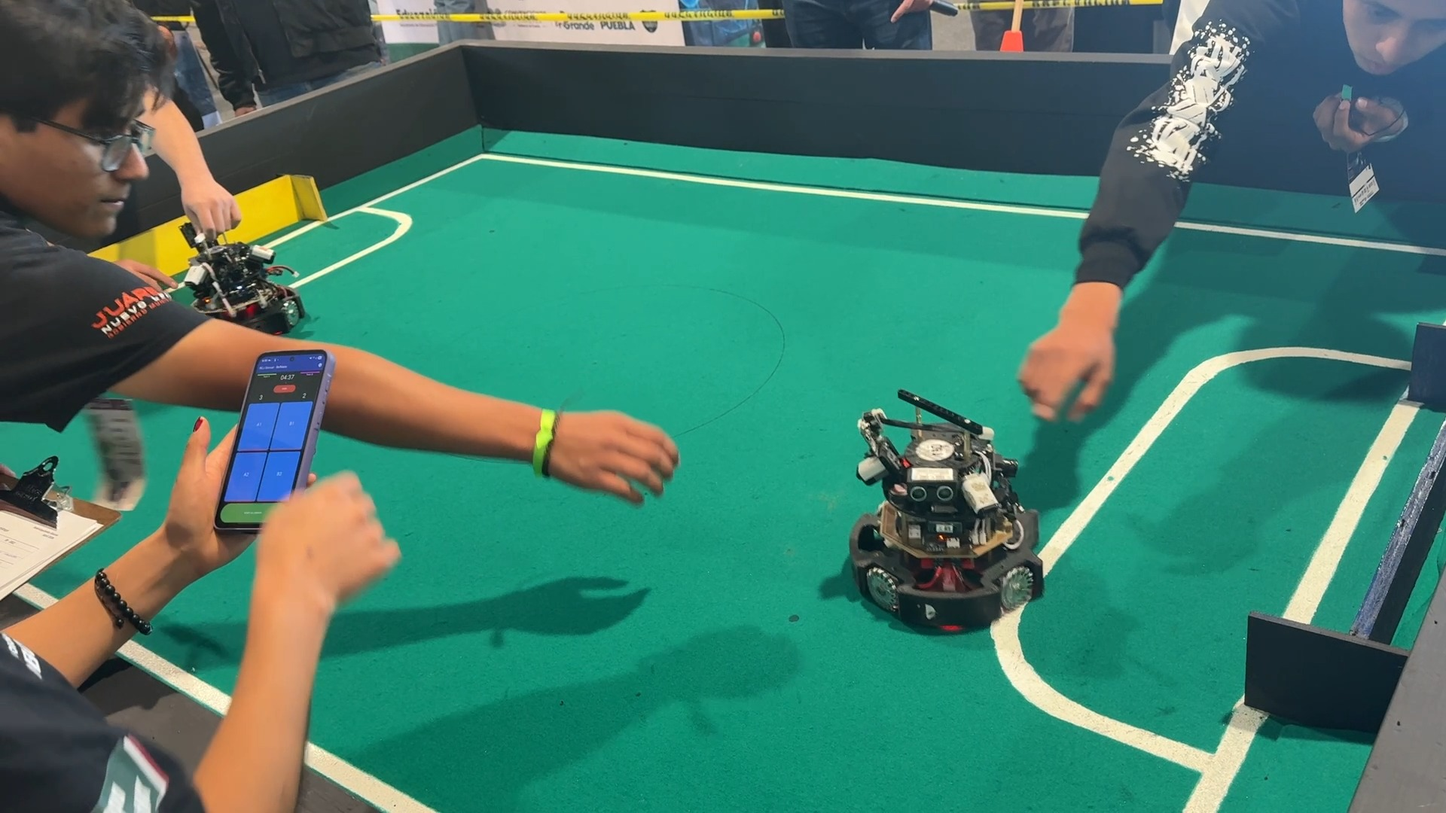Robot: (830, 380, 1056, 660), (167, 206, 323, 341)
